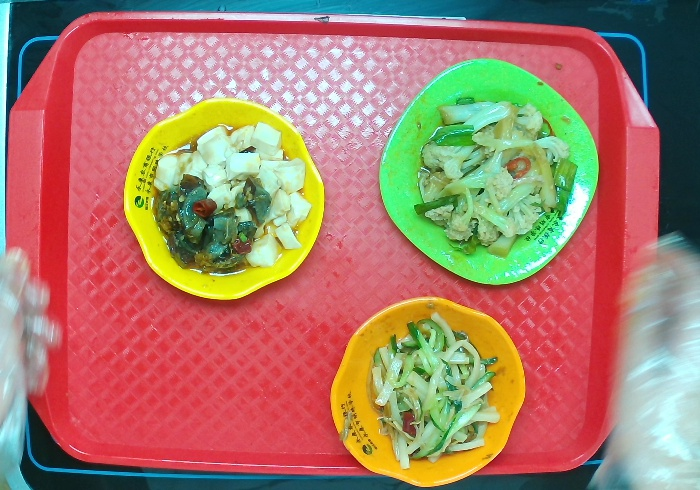YKMZ-Huang_Se_Ao_Bian_Wan: (118, 91, 329, 304)
YKMZ-Ju_Se_Ao_Bian_Wan: (324, 292, 536, 490)
YKMZ-Lv_Se_Fang_Die: (372, 49, 605, 291)
